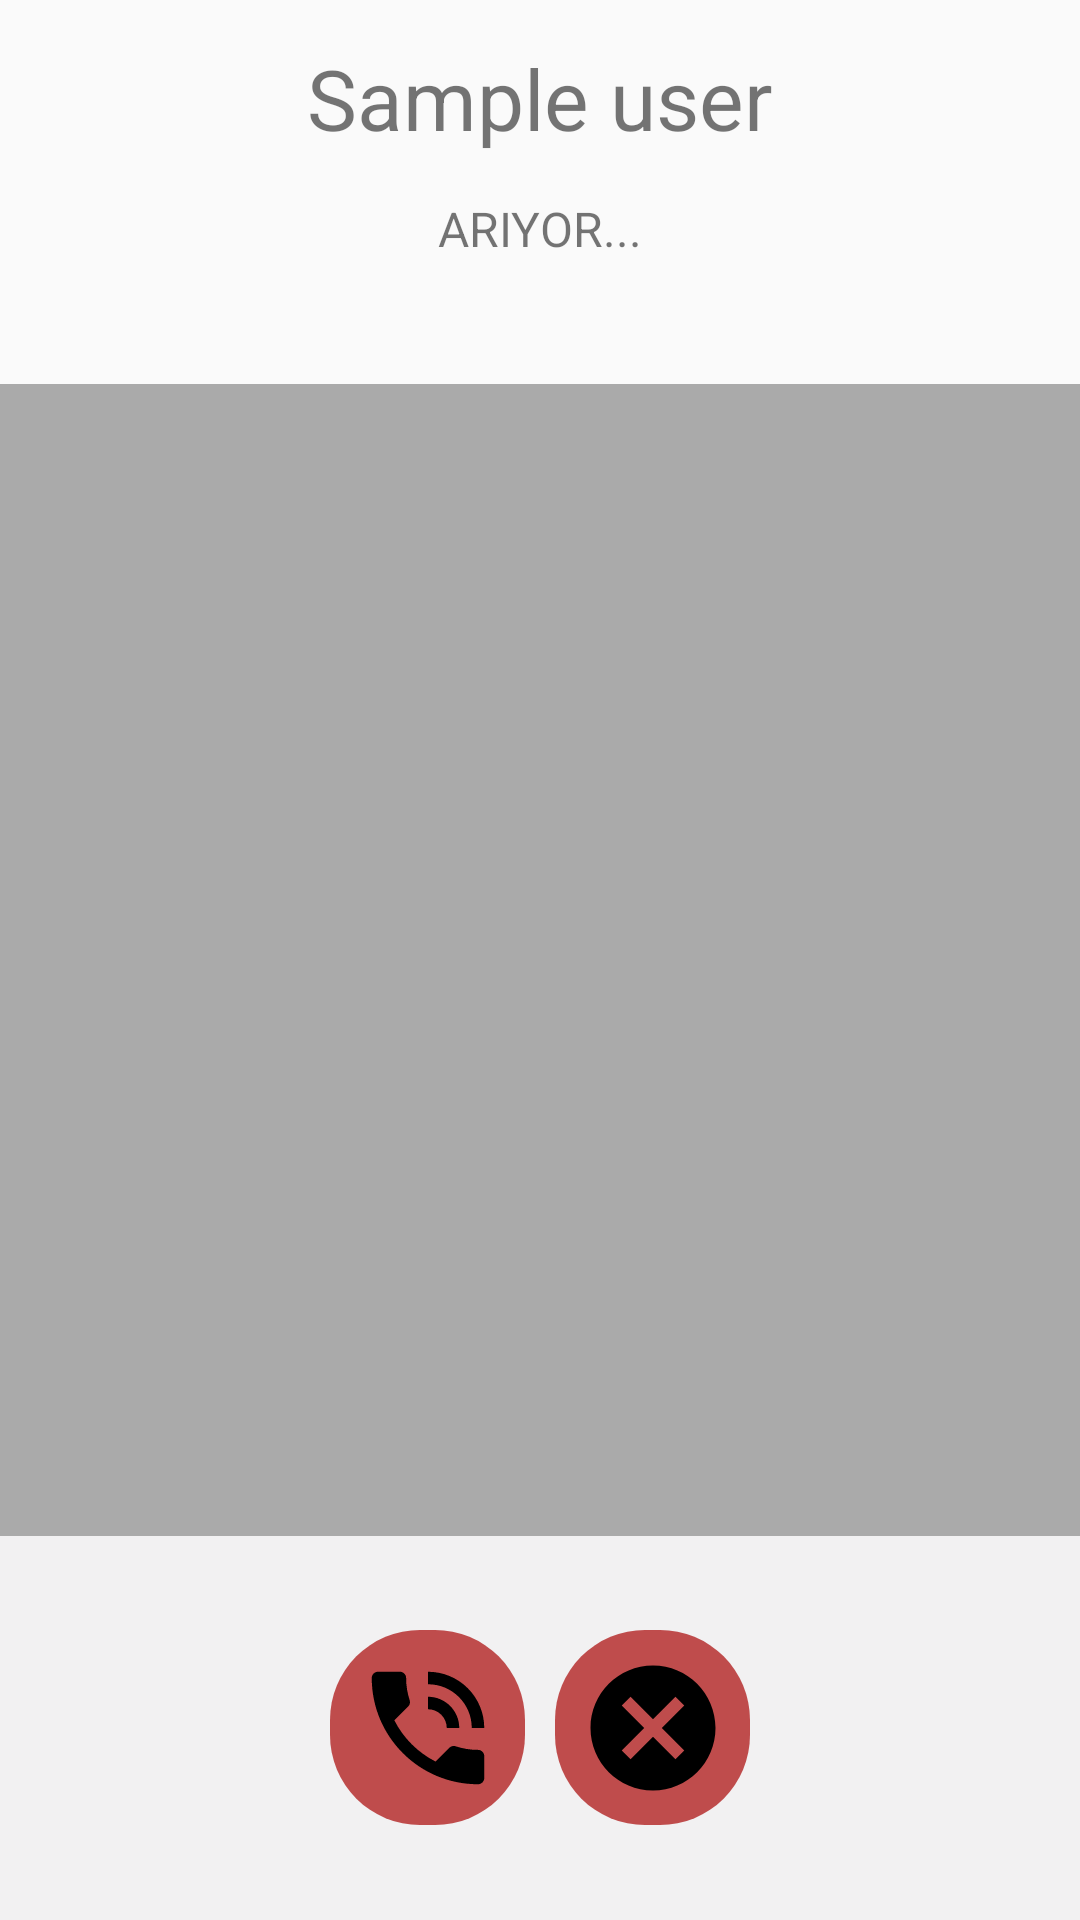

Locate icon controls on the screen. Image size 1080px x 1920px, boxes as rect(x1, y1, x2, y2).
cancel: rect(555, 1630, 750, 1825)
phone in talk: rect(330, 1630, 525, 1825)
